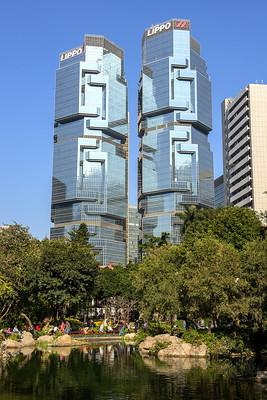building: (135, 20, 217, 264), (50, 32, 130, 281)
